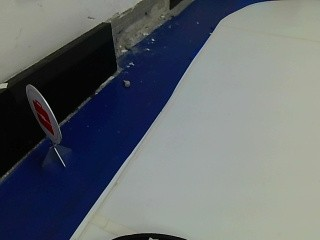company: (25, 83, 63, 145)
